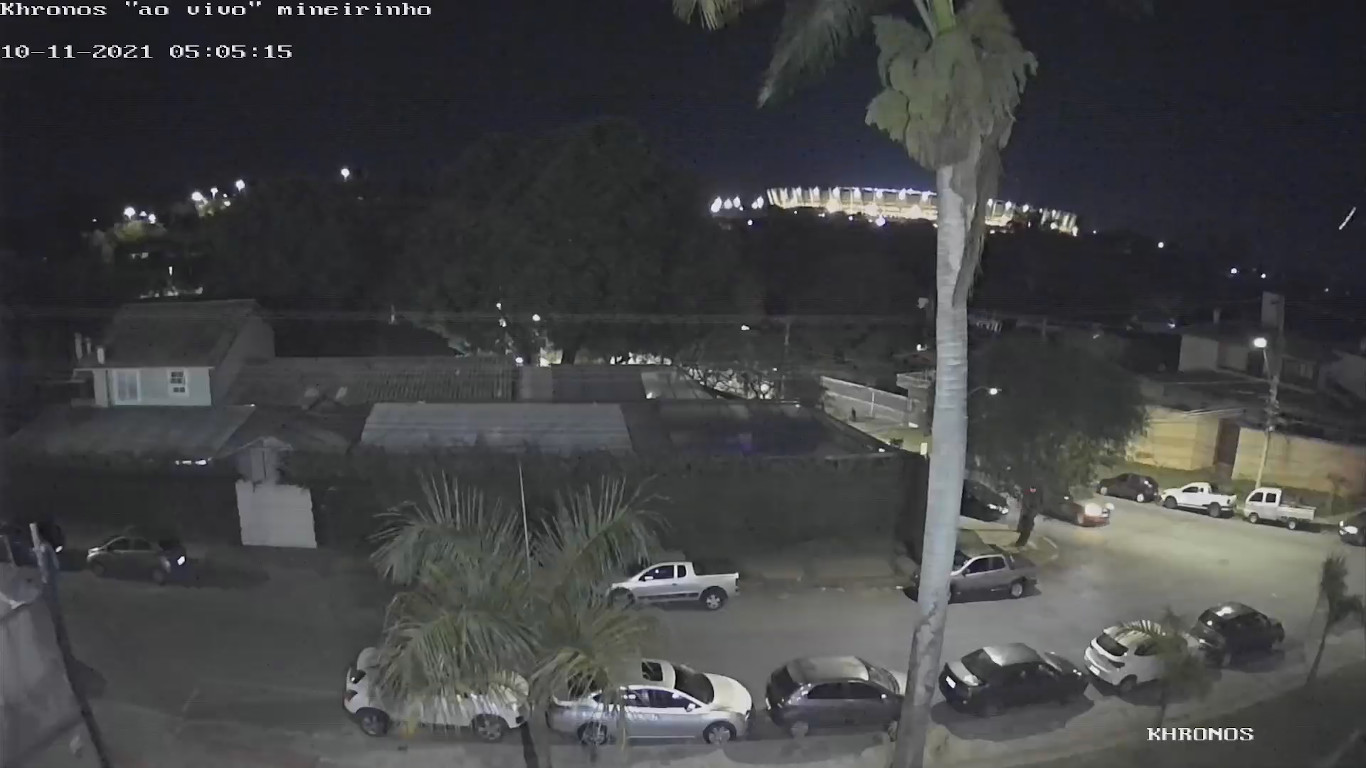car: (340, 640, 537, 745), (544, 654, 757, 748), (762, 652, 931, 739), (936, 641, 1093, 718), (587, 544, 741, 615), (1078, 621, 1208, 692), (907, 546, 1041, 606), (81, 523, 188, 587), (1184, 599, 1286, 666), (1241, 485, 1318, 533), (1160, 479, 1241, 518), (1097, 470, 1162, 503)
misc: (231, 474, 321, 558)
